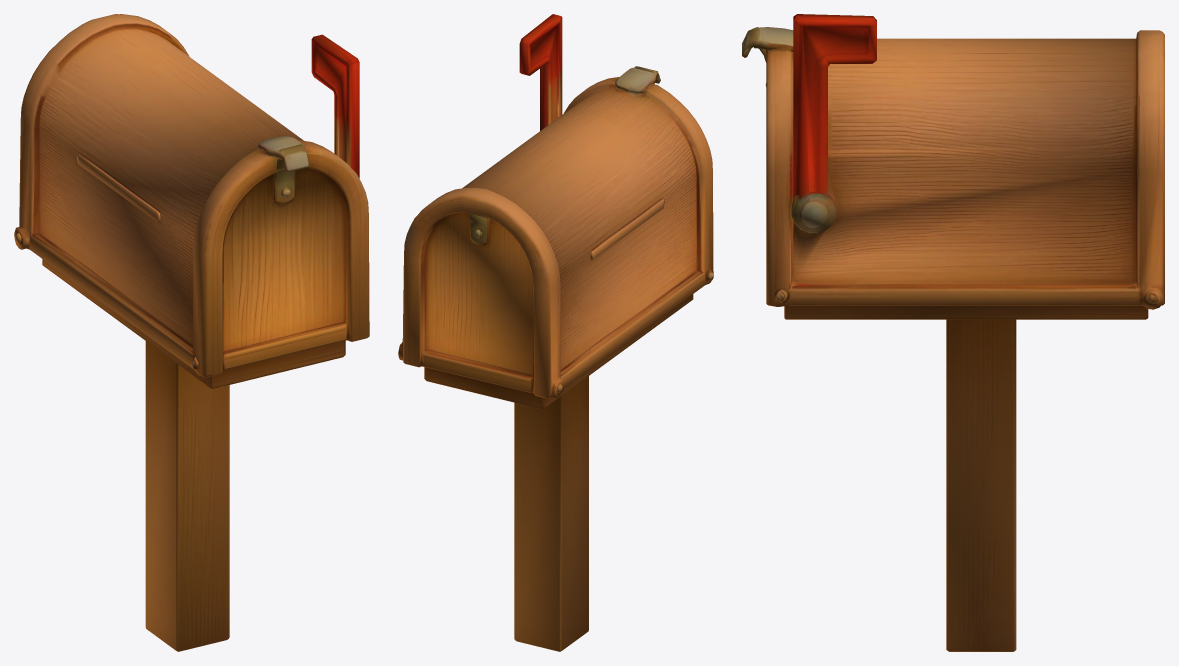
Rendered from a_wooden_mailbox_on_a_post_15137fb3_v4.glb.
The picture shows the model from 3 angles, left to right: view 1: azimuth 30°, elevation 25°; view 2: azimuth 150°, elevation 25°; view 3: azimuth 270°, elevation 25°; orthographic projection. The views are drawn at different scales.
Visible parts, largest first — view 1: material; view 2: material; view 3: material.
Part boxes in pixels (x1=…): material: x1=14, y1=14, x2=369, y2=651; material: x1=398, y1=14, x2=713, y2=651; material: x1=742, y1=14, x2=1164, y2=651.
Size of the model in its own units: 0.5878 by 1.9 by 1.1.
1 material, 1 textured.
